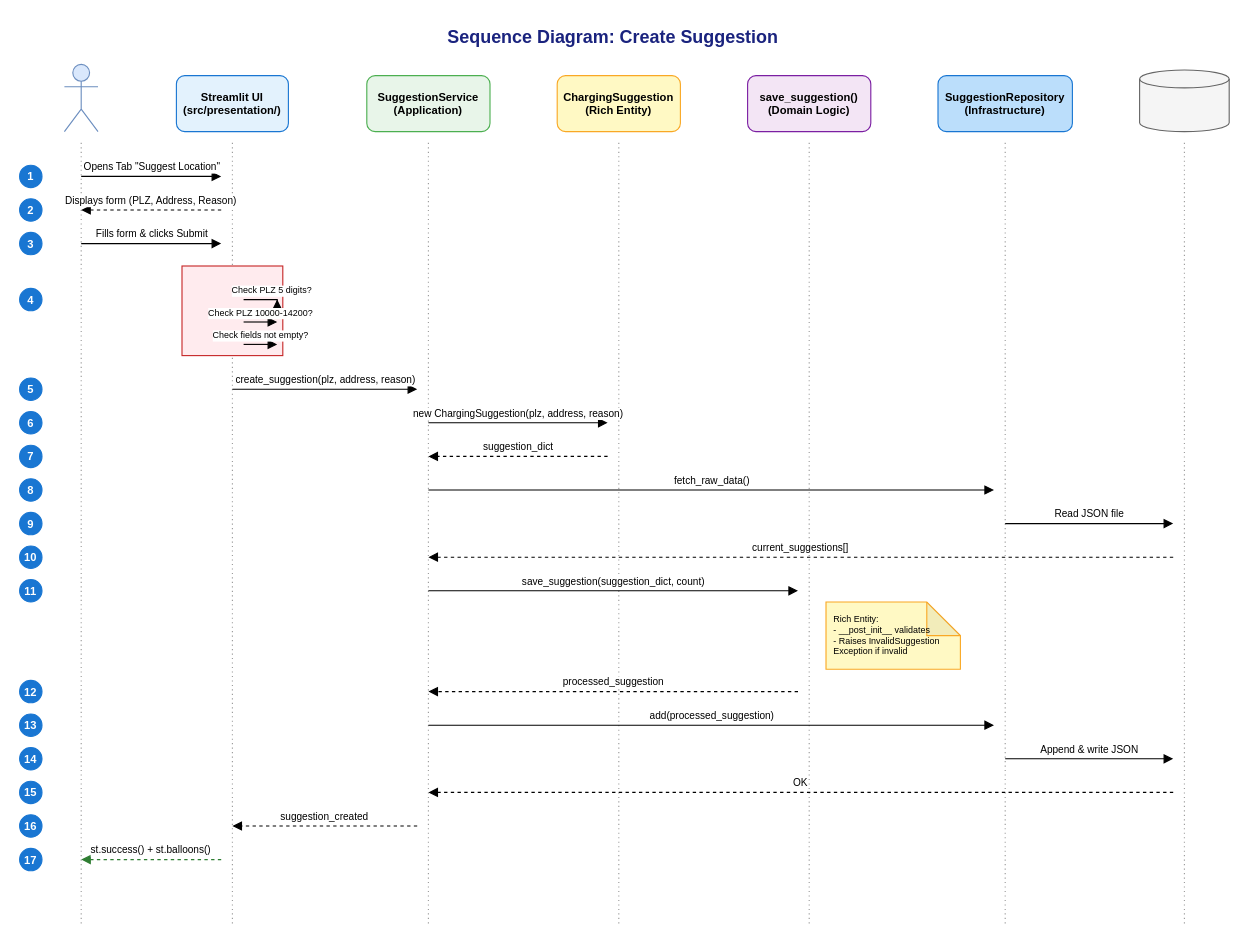
Image size: 1249x948. Some labels were removed from this diagram. Here are the shapes that lost their labels. From the top down, the centre of each, then its label:
the point at 80,97: User
the point at 1183,100: suggestions.json
the point at 232,310: Validation
